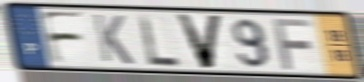9: (231, 16, 273, 70)
F: (38, 10, 87, 66), (271, 16, 315, 72)
K: (90, 12, 136, 67)
L: (136, 12, 183, 68)
V: (173, 11, 226, 71)
